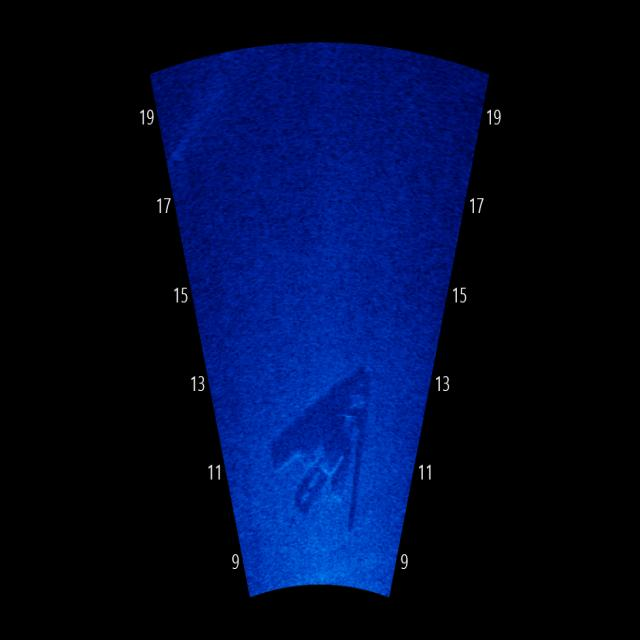triangle: (264, 356, 375, 541)
